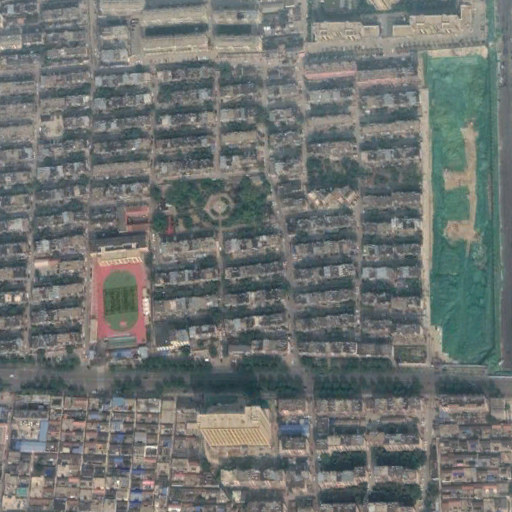cw: (424, 56, 499, 365)
